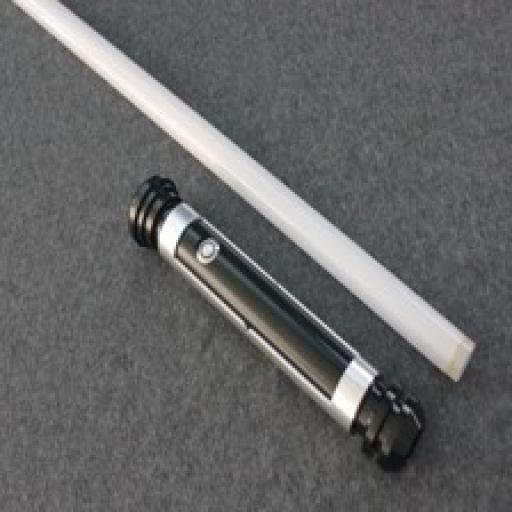lightsaber: (128, 172, 421, 474)
